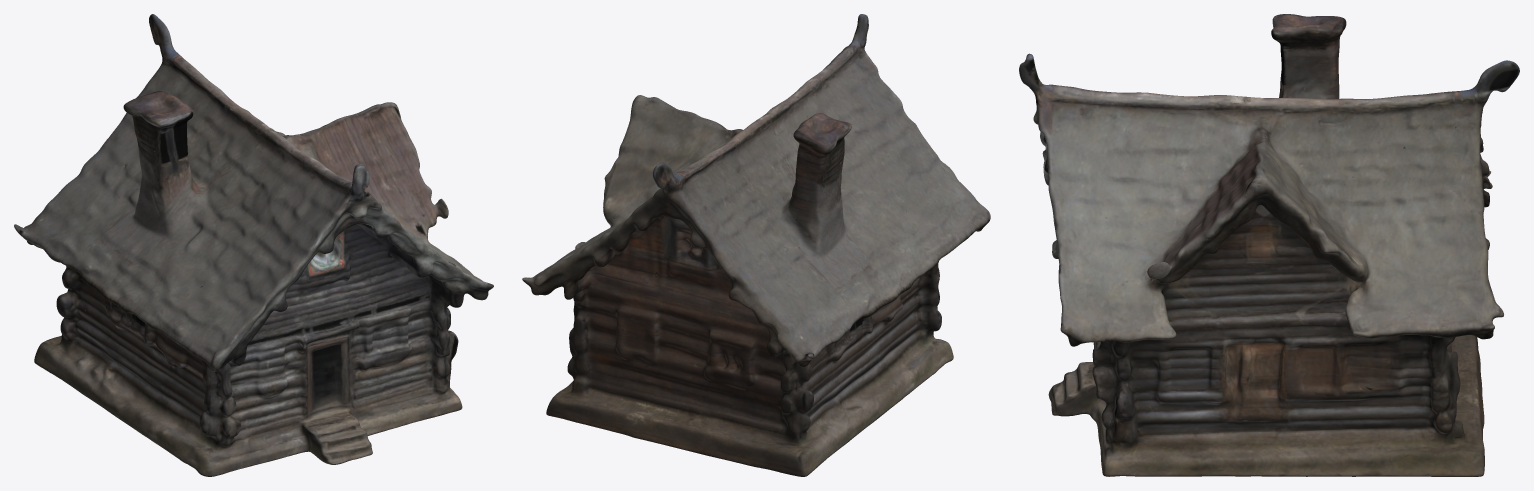
Rendered from Old_Russian_izba.glb.
3 renders of one model, left to right at view 1: azimuth 30°, elevation 25°; view 2: azimuth 150°, elevation 25°; view 3: azimuth 270°, elevation 25°, orthographic. The views are drawn at different scales.
Bounding box in the file's own units: 1.58 × 1.56 × 2.01.
1 material, 1 textured.
